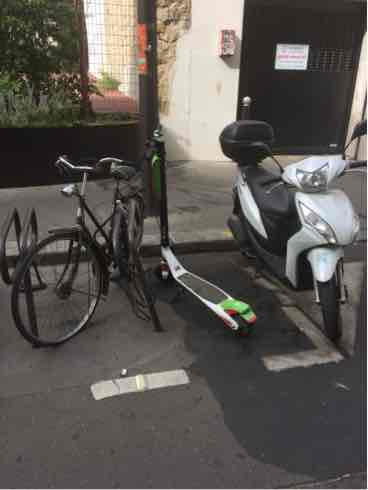scooter: (122, 126, 259, 343)
